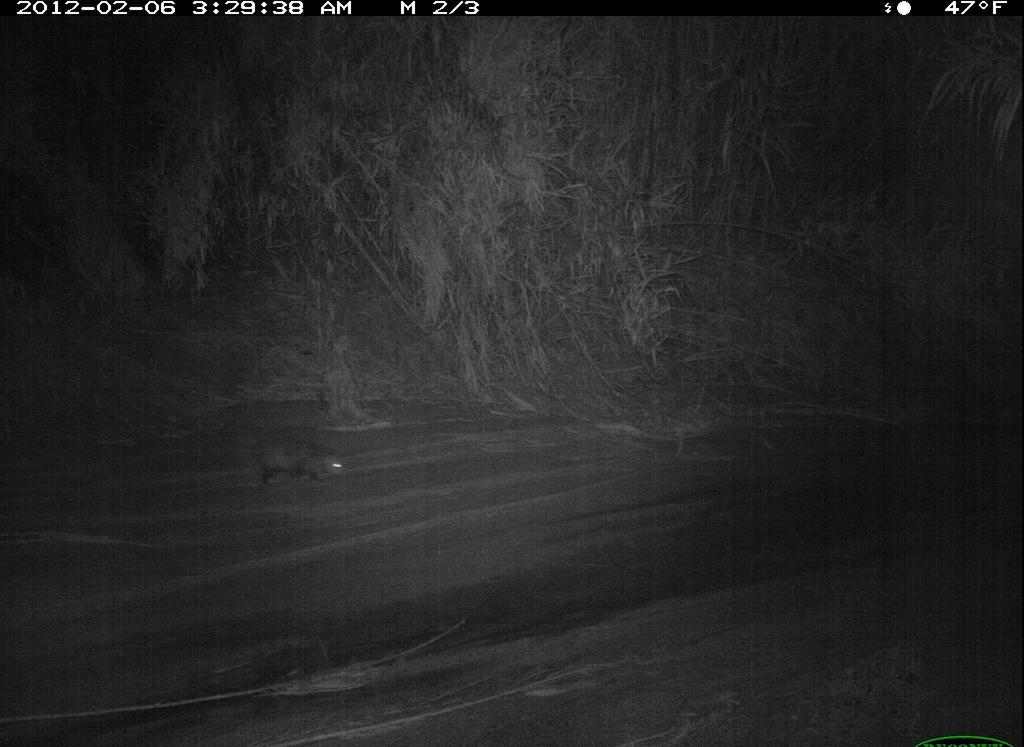opossum: (205, 425, 374, 509)
